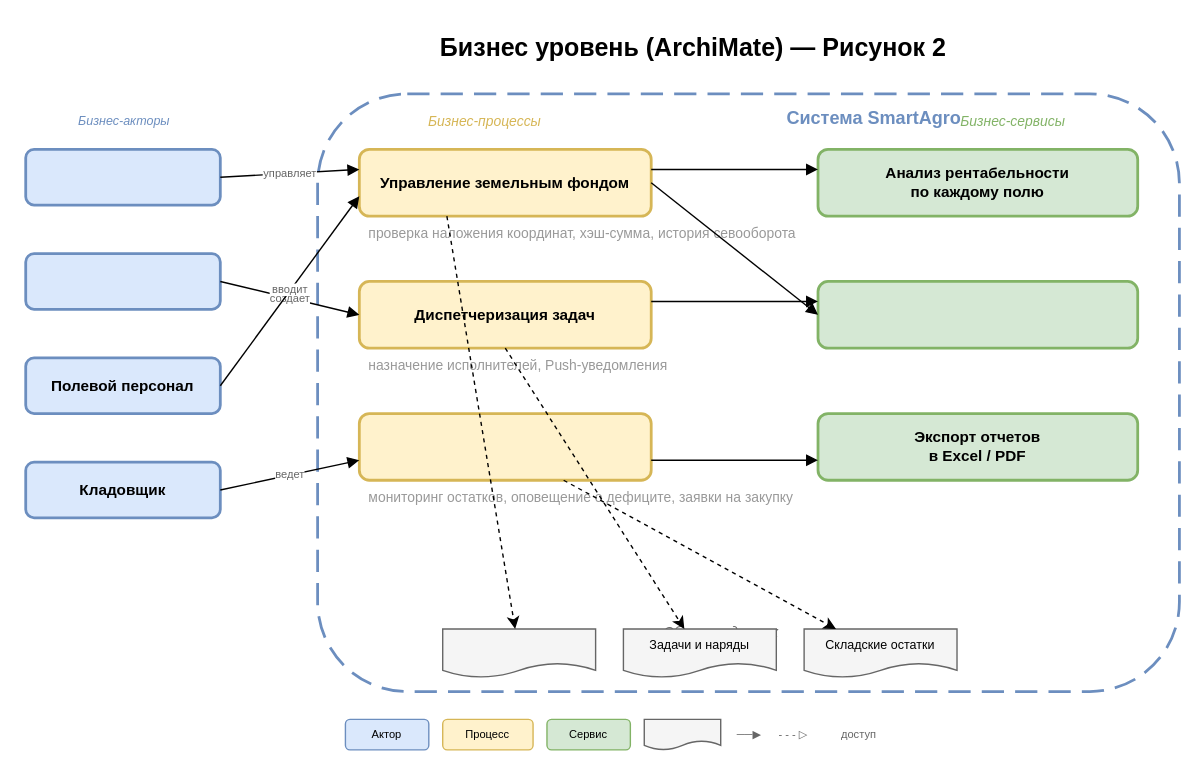
Image size: 1204x774. Some labels were removed from this diagram. Each missing label, with the centre of its shape:
"Администратор" belongs at (x=122, y=176).
"Визуальная отчетность с графиками и диаграммами" belongs at (x=977, y=314).
"Данные" belongs at (x=682, y=734).
"Диспетчер" belongs at (x=122, y=281).
"Земельные участки" belongs at (x=518, y=653).
"Оперативный учет ресурсов" belongs at (x=504, y=446).
